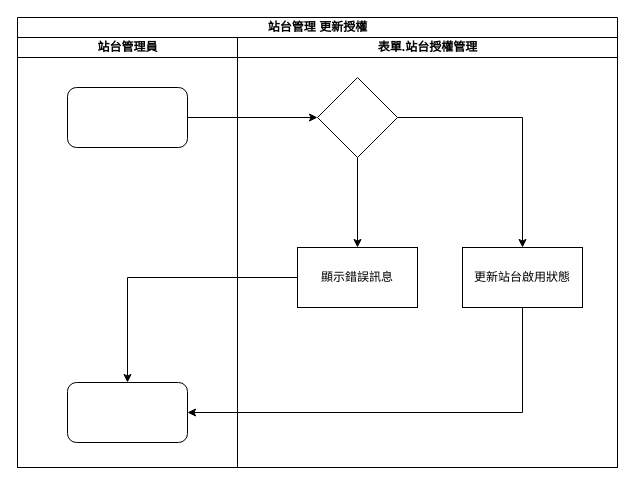
Image size: 635x485. Some labels were removed from this diagram. The centre of each missing label's shape, as x and y in pixels:
"執行結束" belongs at pixel 127 412.
"授權檔案 不為空" belongs at pixel 357 117.
"點擊按鈕.離線啟用" belongs at pixel 127 117.
